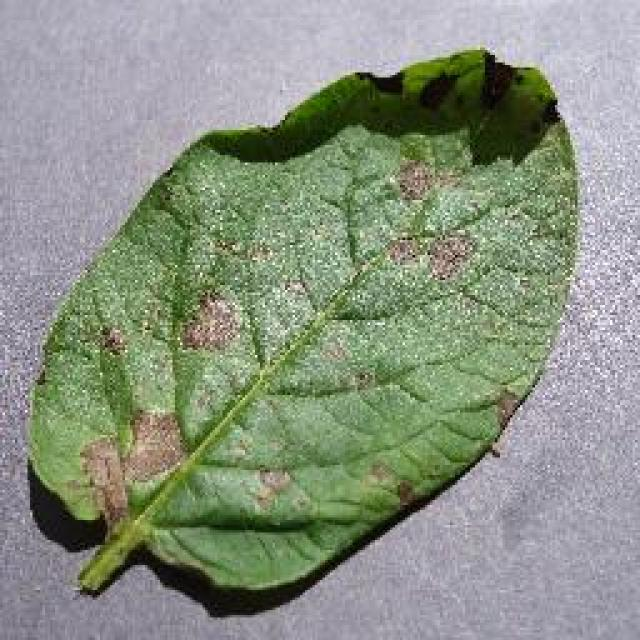Potato___Early_blight: (54, 129, 512, 578)
